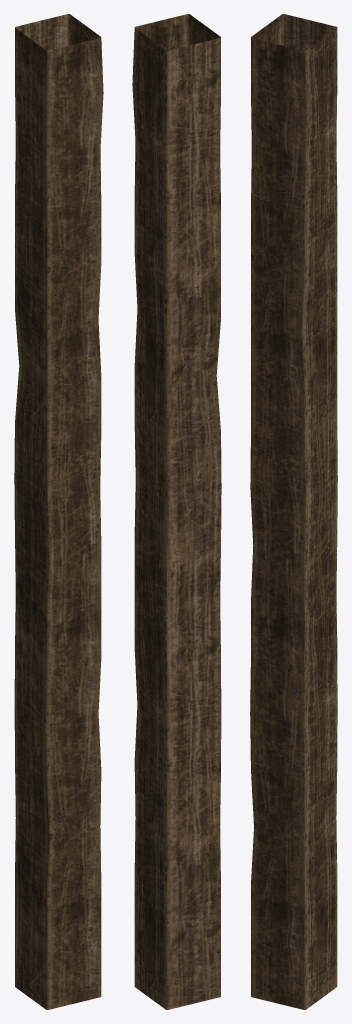
File: SM_Pole_Large_03.fbx
3 renders of one model, left to right at view 1: azimuth 30°, elevation 25°; view 2: azimuth 210°, elevation 25°; view 3: azimuth 330°, elevation 25°, orthographic.
Parts seen in each view (by area): view 1: SM_Pole_Large_03_LOD0; view 2: SM_Pole_Large_03_LOD0; view 3: SM_Pole_Large_03_LOD0.
Part boxes in pixels (x1,y1,x2,y2): SM_Pole_Large_03_LOD0: [14, 14, 103, 1009]; SM_Pole_Large_03_LOD0: [132, 14, 221, 1009]; SM_Pole_Large_03_LOD0: [250, 14, 337, 1009].
Size of the model in its own units: 66.95 by 66.98 by 1049.
